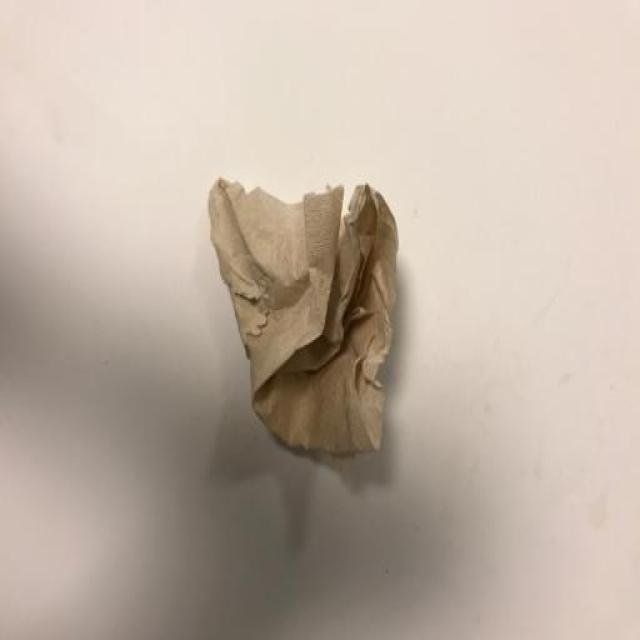Random Trash: (208, 177, 400, 463)
